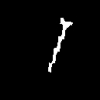half_double_crochet: (48, 18, 72, 71)
